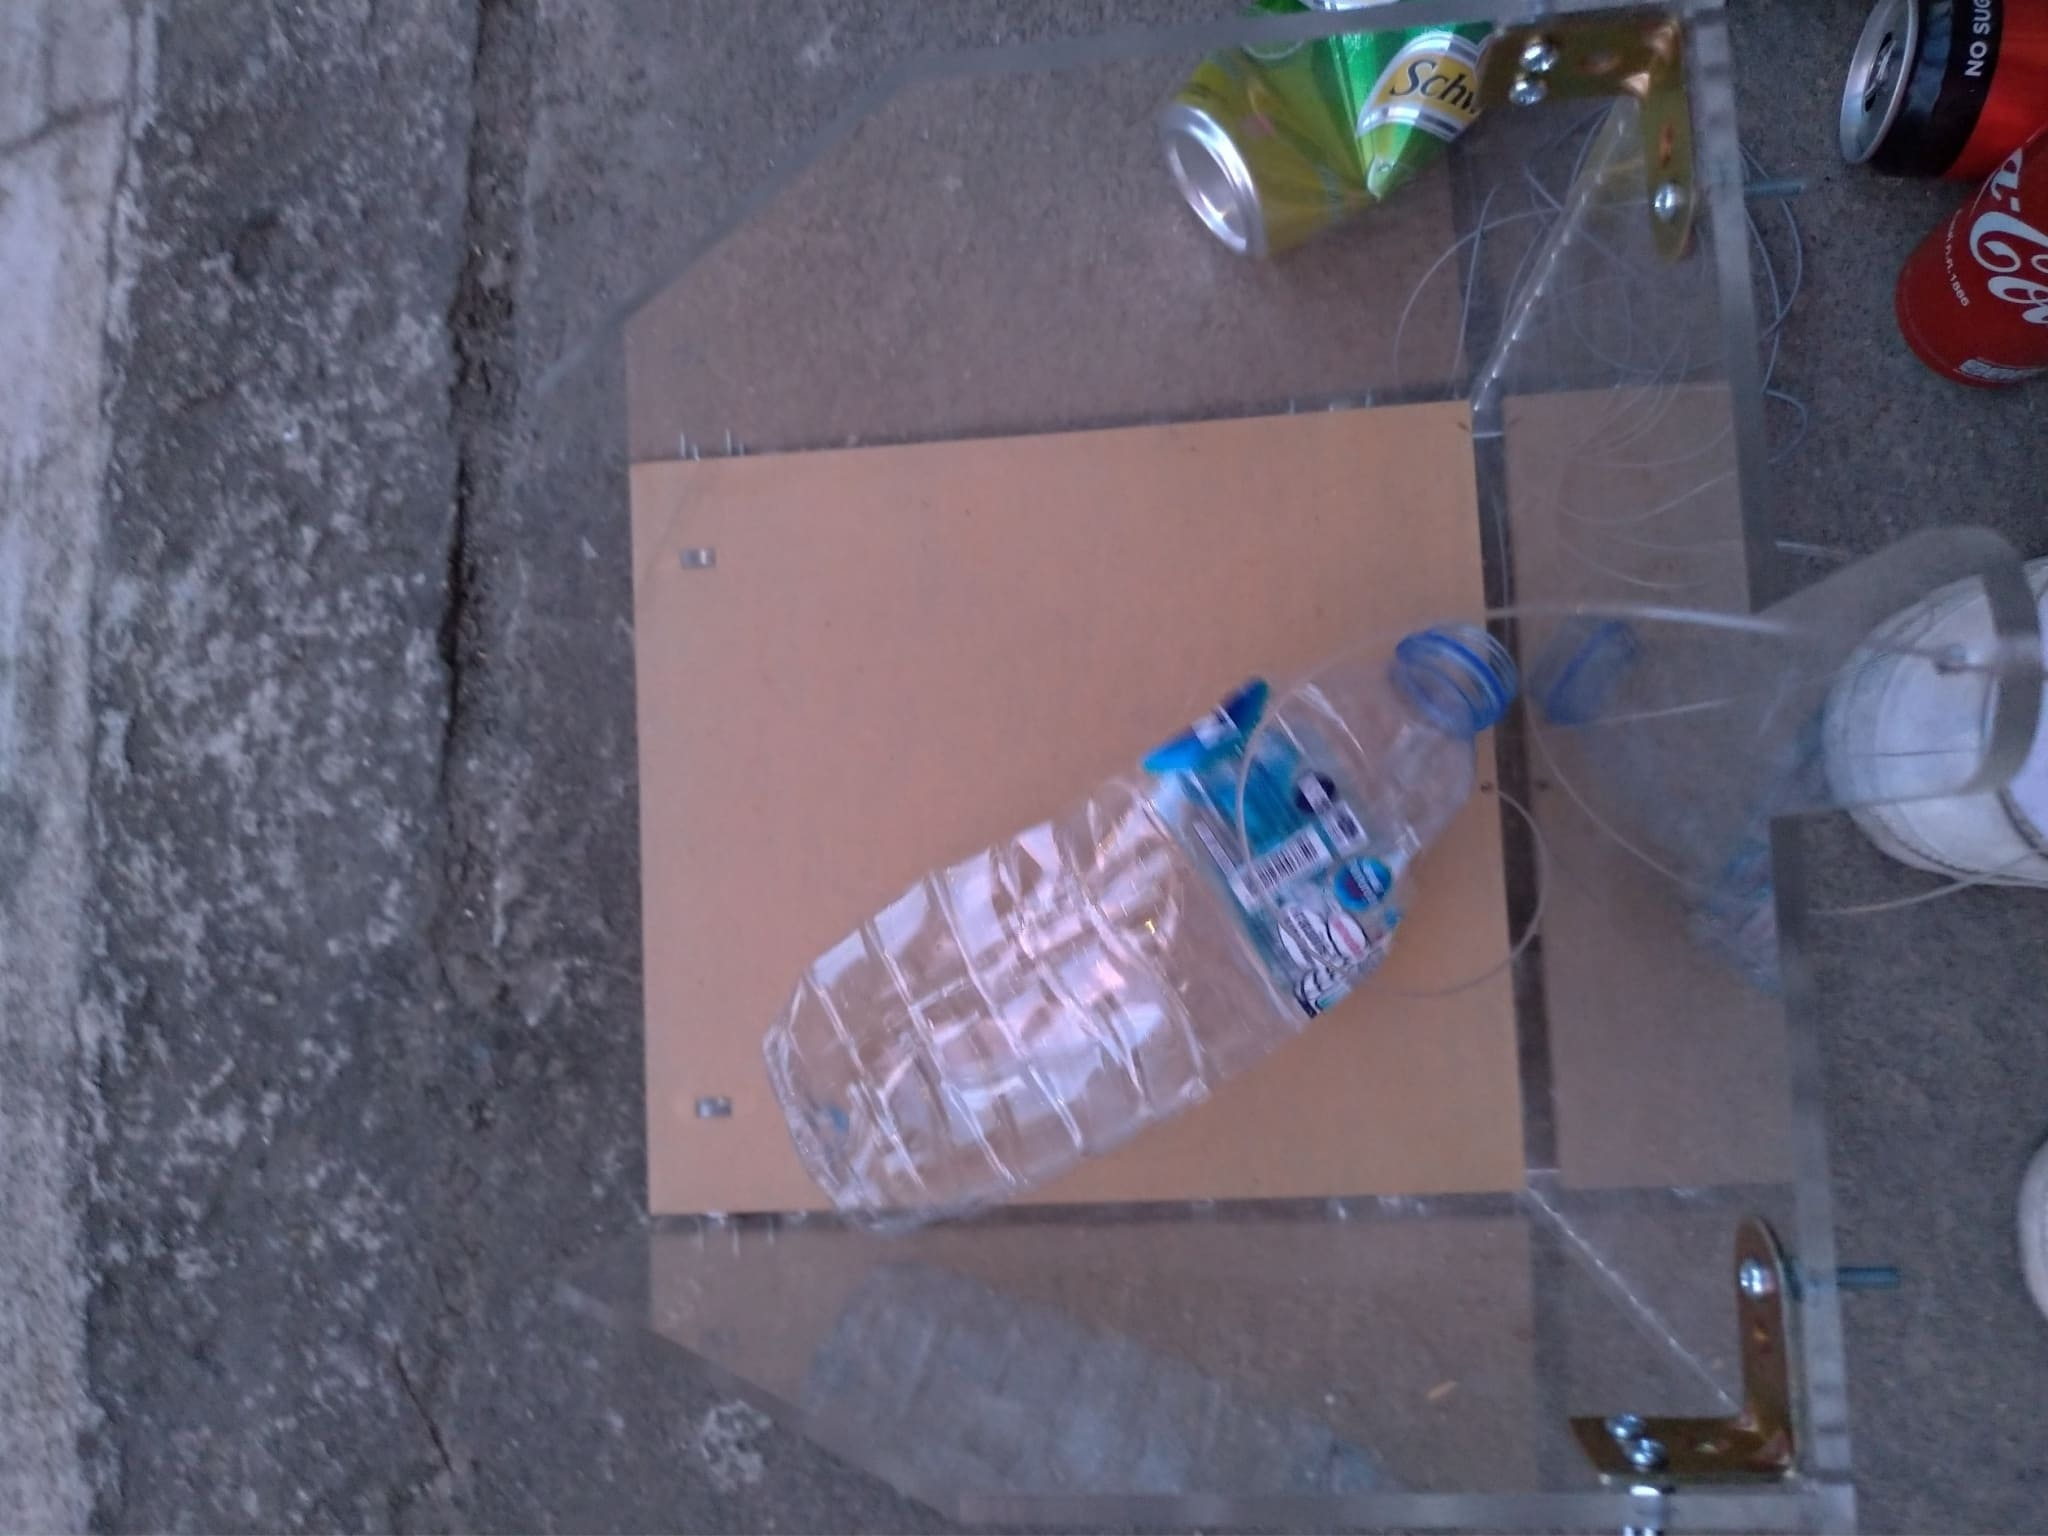AlCan: (1159, 3, 1487, 257), (1901, 131, 2048, 390), (1837, 15, 2022, 176)
PlasticBottle: (766, 623, 1522, 1233)
